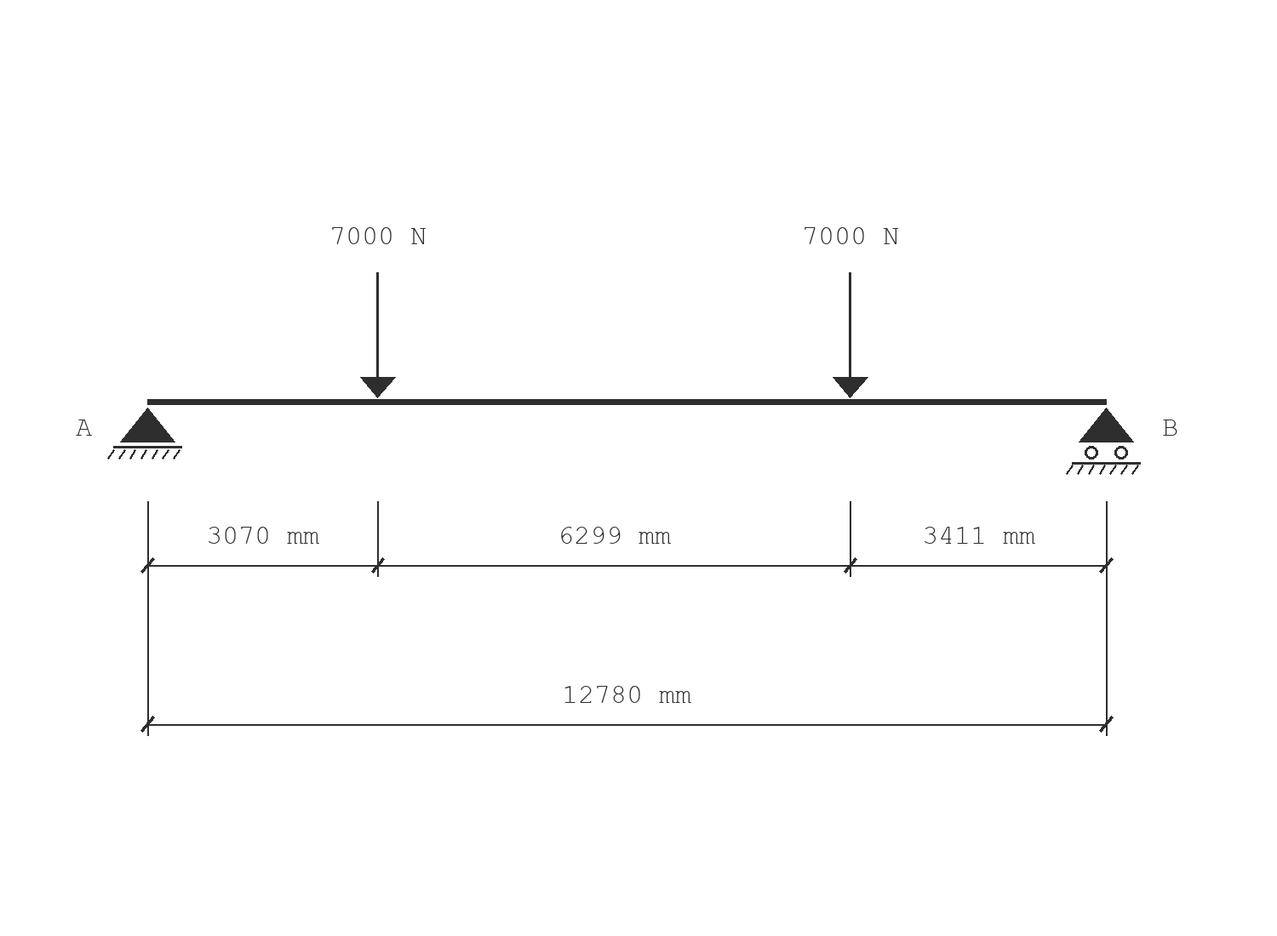pin_support: (107, 408, 182, 459)
point_load: (360, 272, 396, 398), (833, 272, 868, 398)
roller_support: (1066, 408, 1141, 475)
